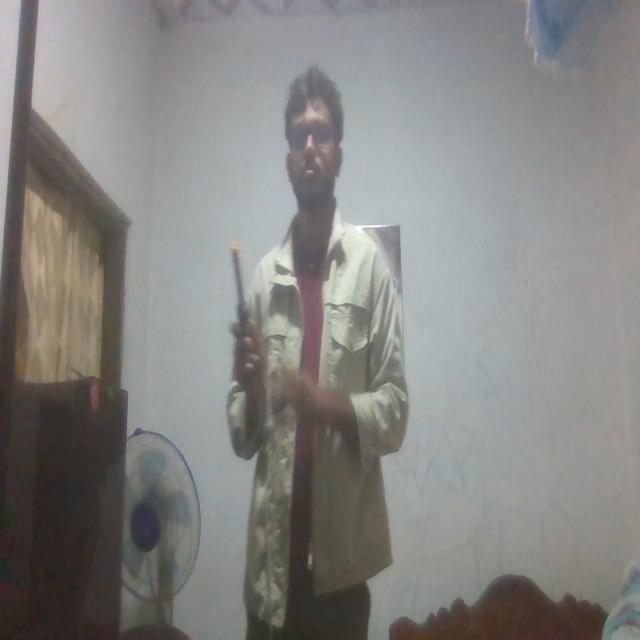Gun_Holder: (224, 230, 270, 372)
Jacket_Wearer: (222, 214, 416, 582)
Person: (222, 64, 412, 640)
